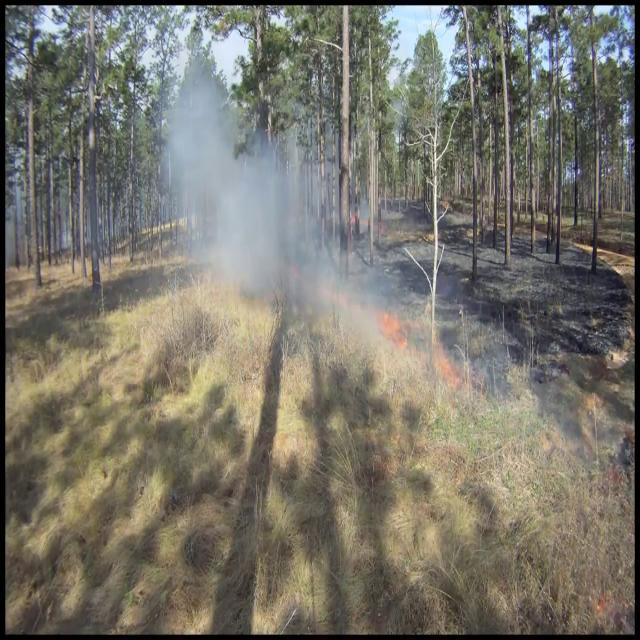Smoke: (161, 56, 387, 342)
